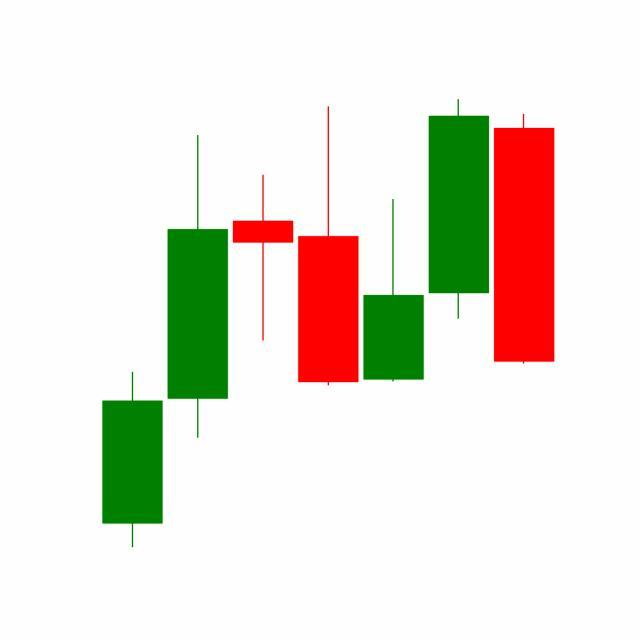Upside-Downside Gap Three Methods: (360, 99, 556, 386)
